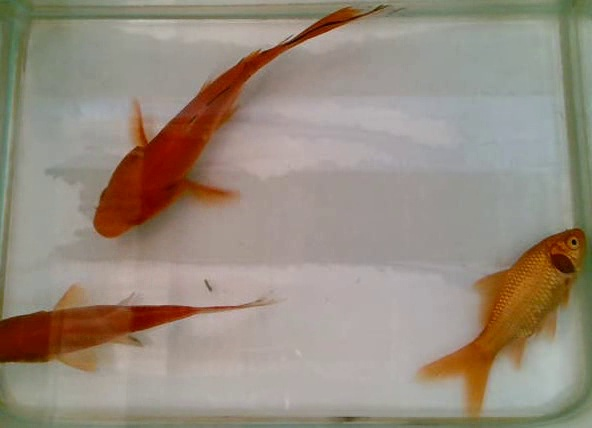alive_fish: (80, 1, 402, 242), (2, 280, 281, 375)
dead_fish: (410, 224, 592, 425)
